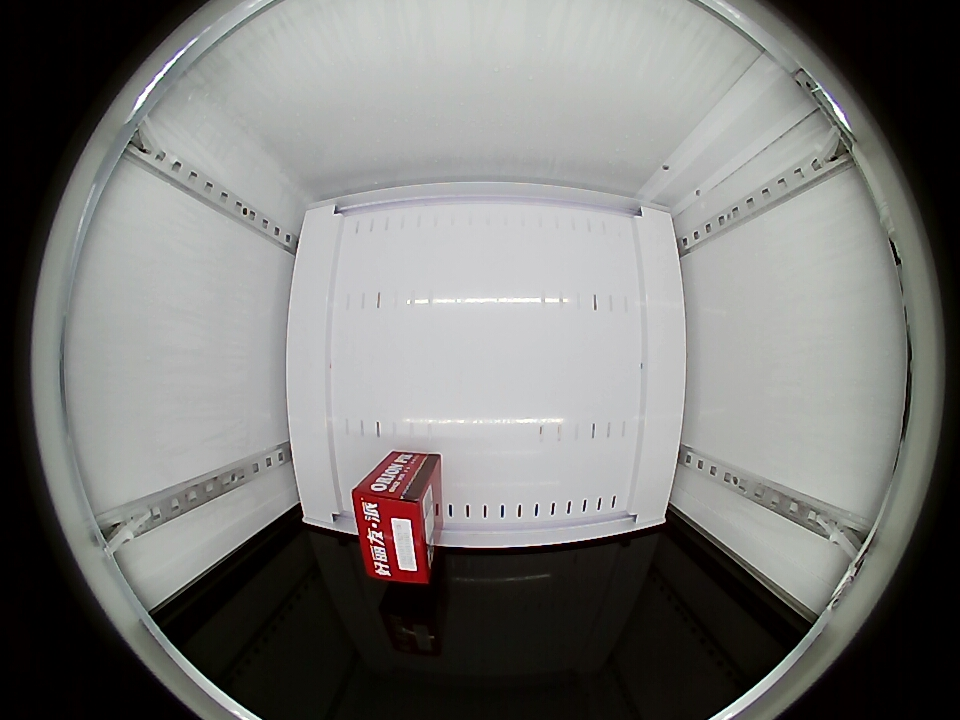haoliyou: (352, 468, 436, 583)
